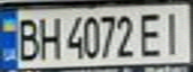0: (81, 12, 100, 60)
2: (115, 11, 139, 60)
4: (63, 11, 84, 60)
7: (97, 11, 118, 60)
B: (12, 15, 42, 62)
E: (136, 8, 166, 57)
H: (36, 12, 63, 61)
I: (157, 7, 190, 56)
